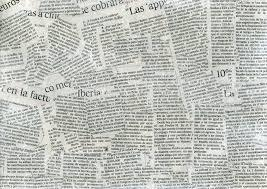Printing industry: (2, 4, 267, 189)
